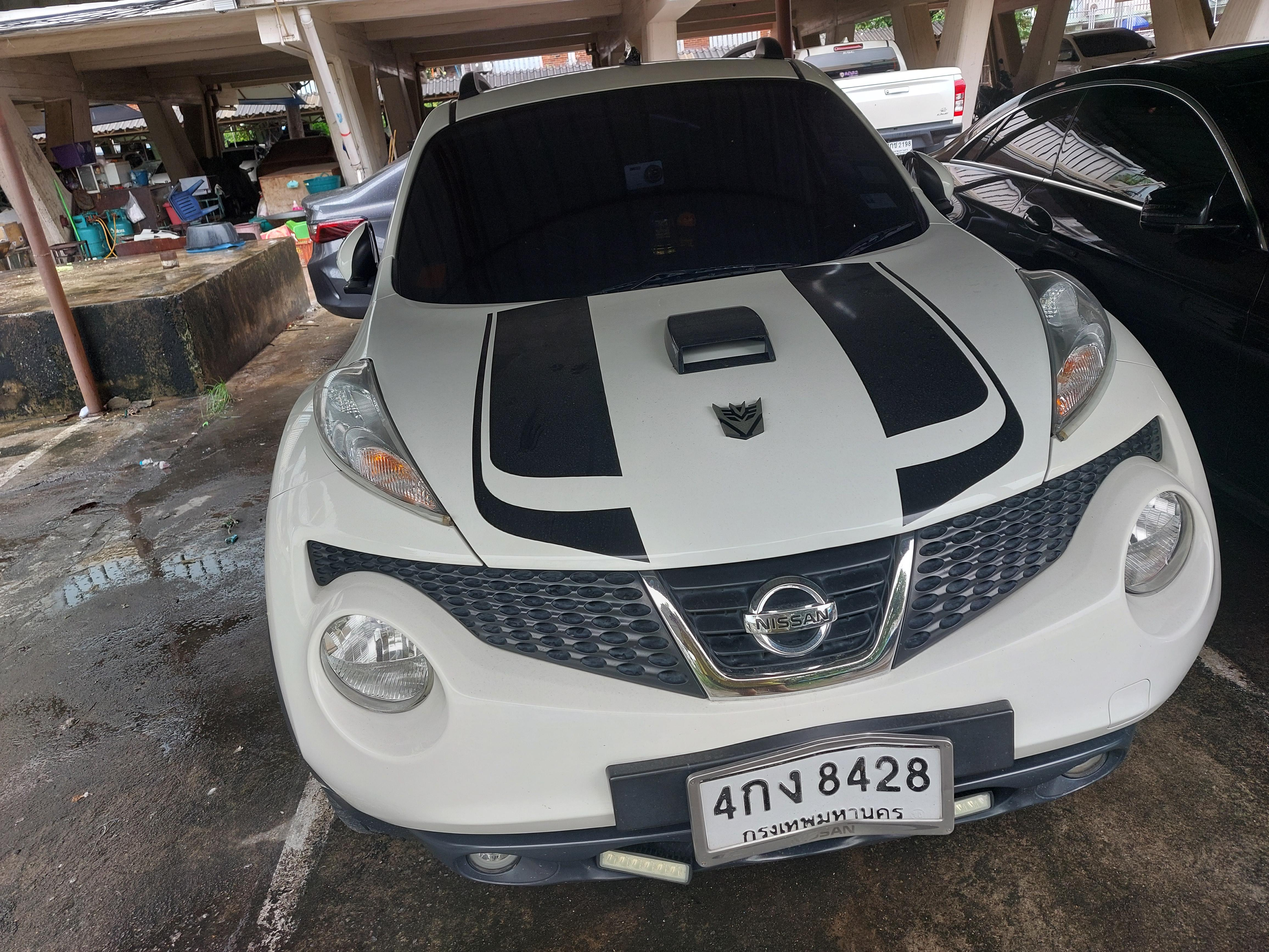license-plate: (683, 723, 965, 880)
